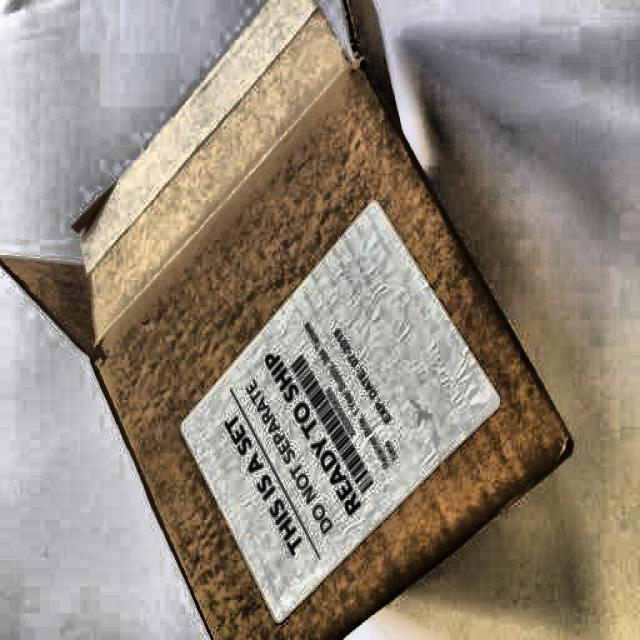cardboard: (11, 17, 572, 626)
